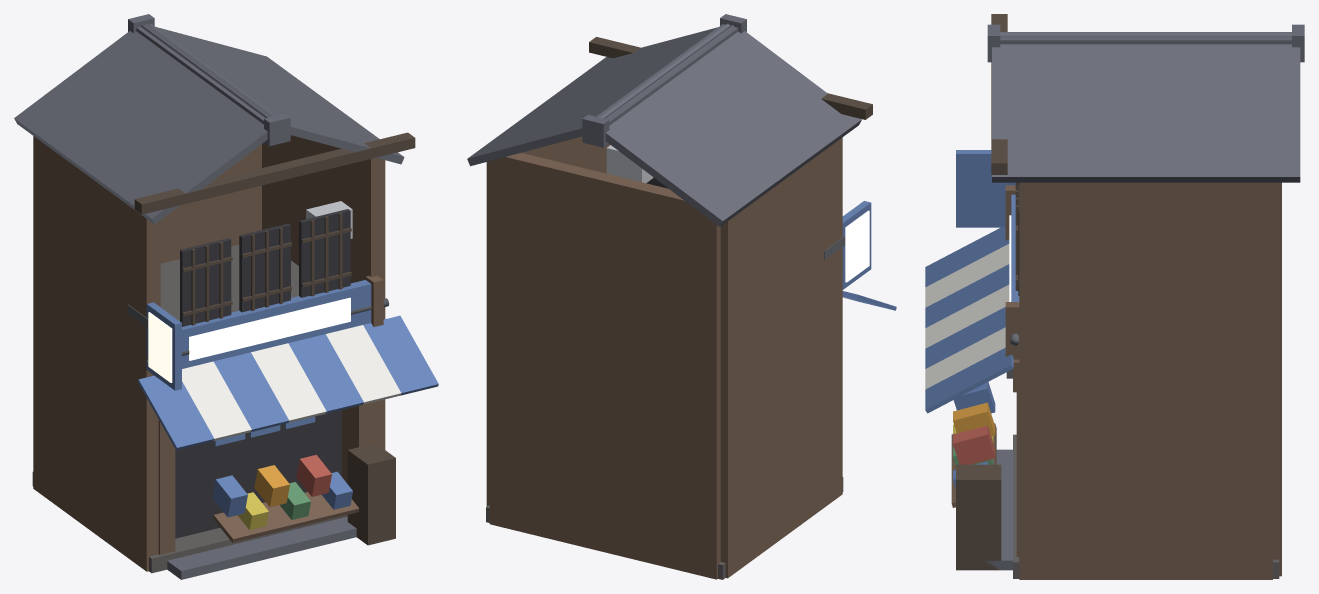
Rendered from prop_shop_honya.glb.
3 renders of one model, left to right at view 1: azimuth 30°, elevation 25°; view 2: azimuth 150°, elevation 25°; view 3: azimuth 270°, elevation 25°, orthographic. The views are drawn at different scales.
Visible parts, largest first — view 1: shop_honya; view 2: shop_honya; view 3: shop_honya.
Part boxes in pixels (box(x1,y1,x2,y2)): shop_honya: box(14, 14, 438, 579); shop_honya: box(467, 14, 896, 579); shop_honya: box(925, 14, 1304, 579).
Size of the model in its own units: 3.9 by 5.9 by 4.19.
